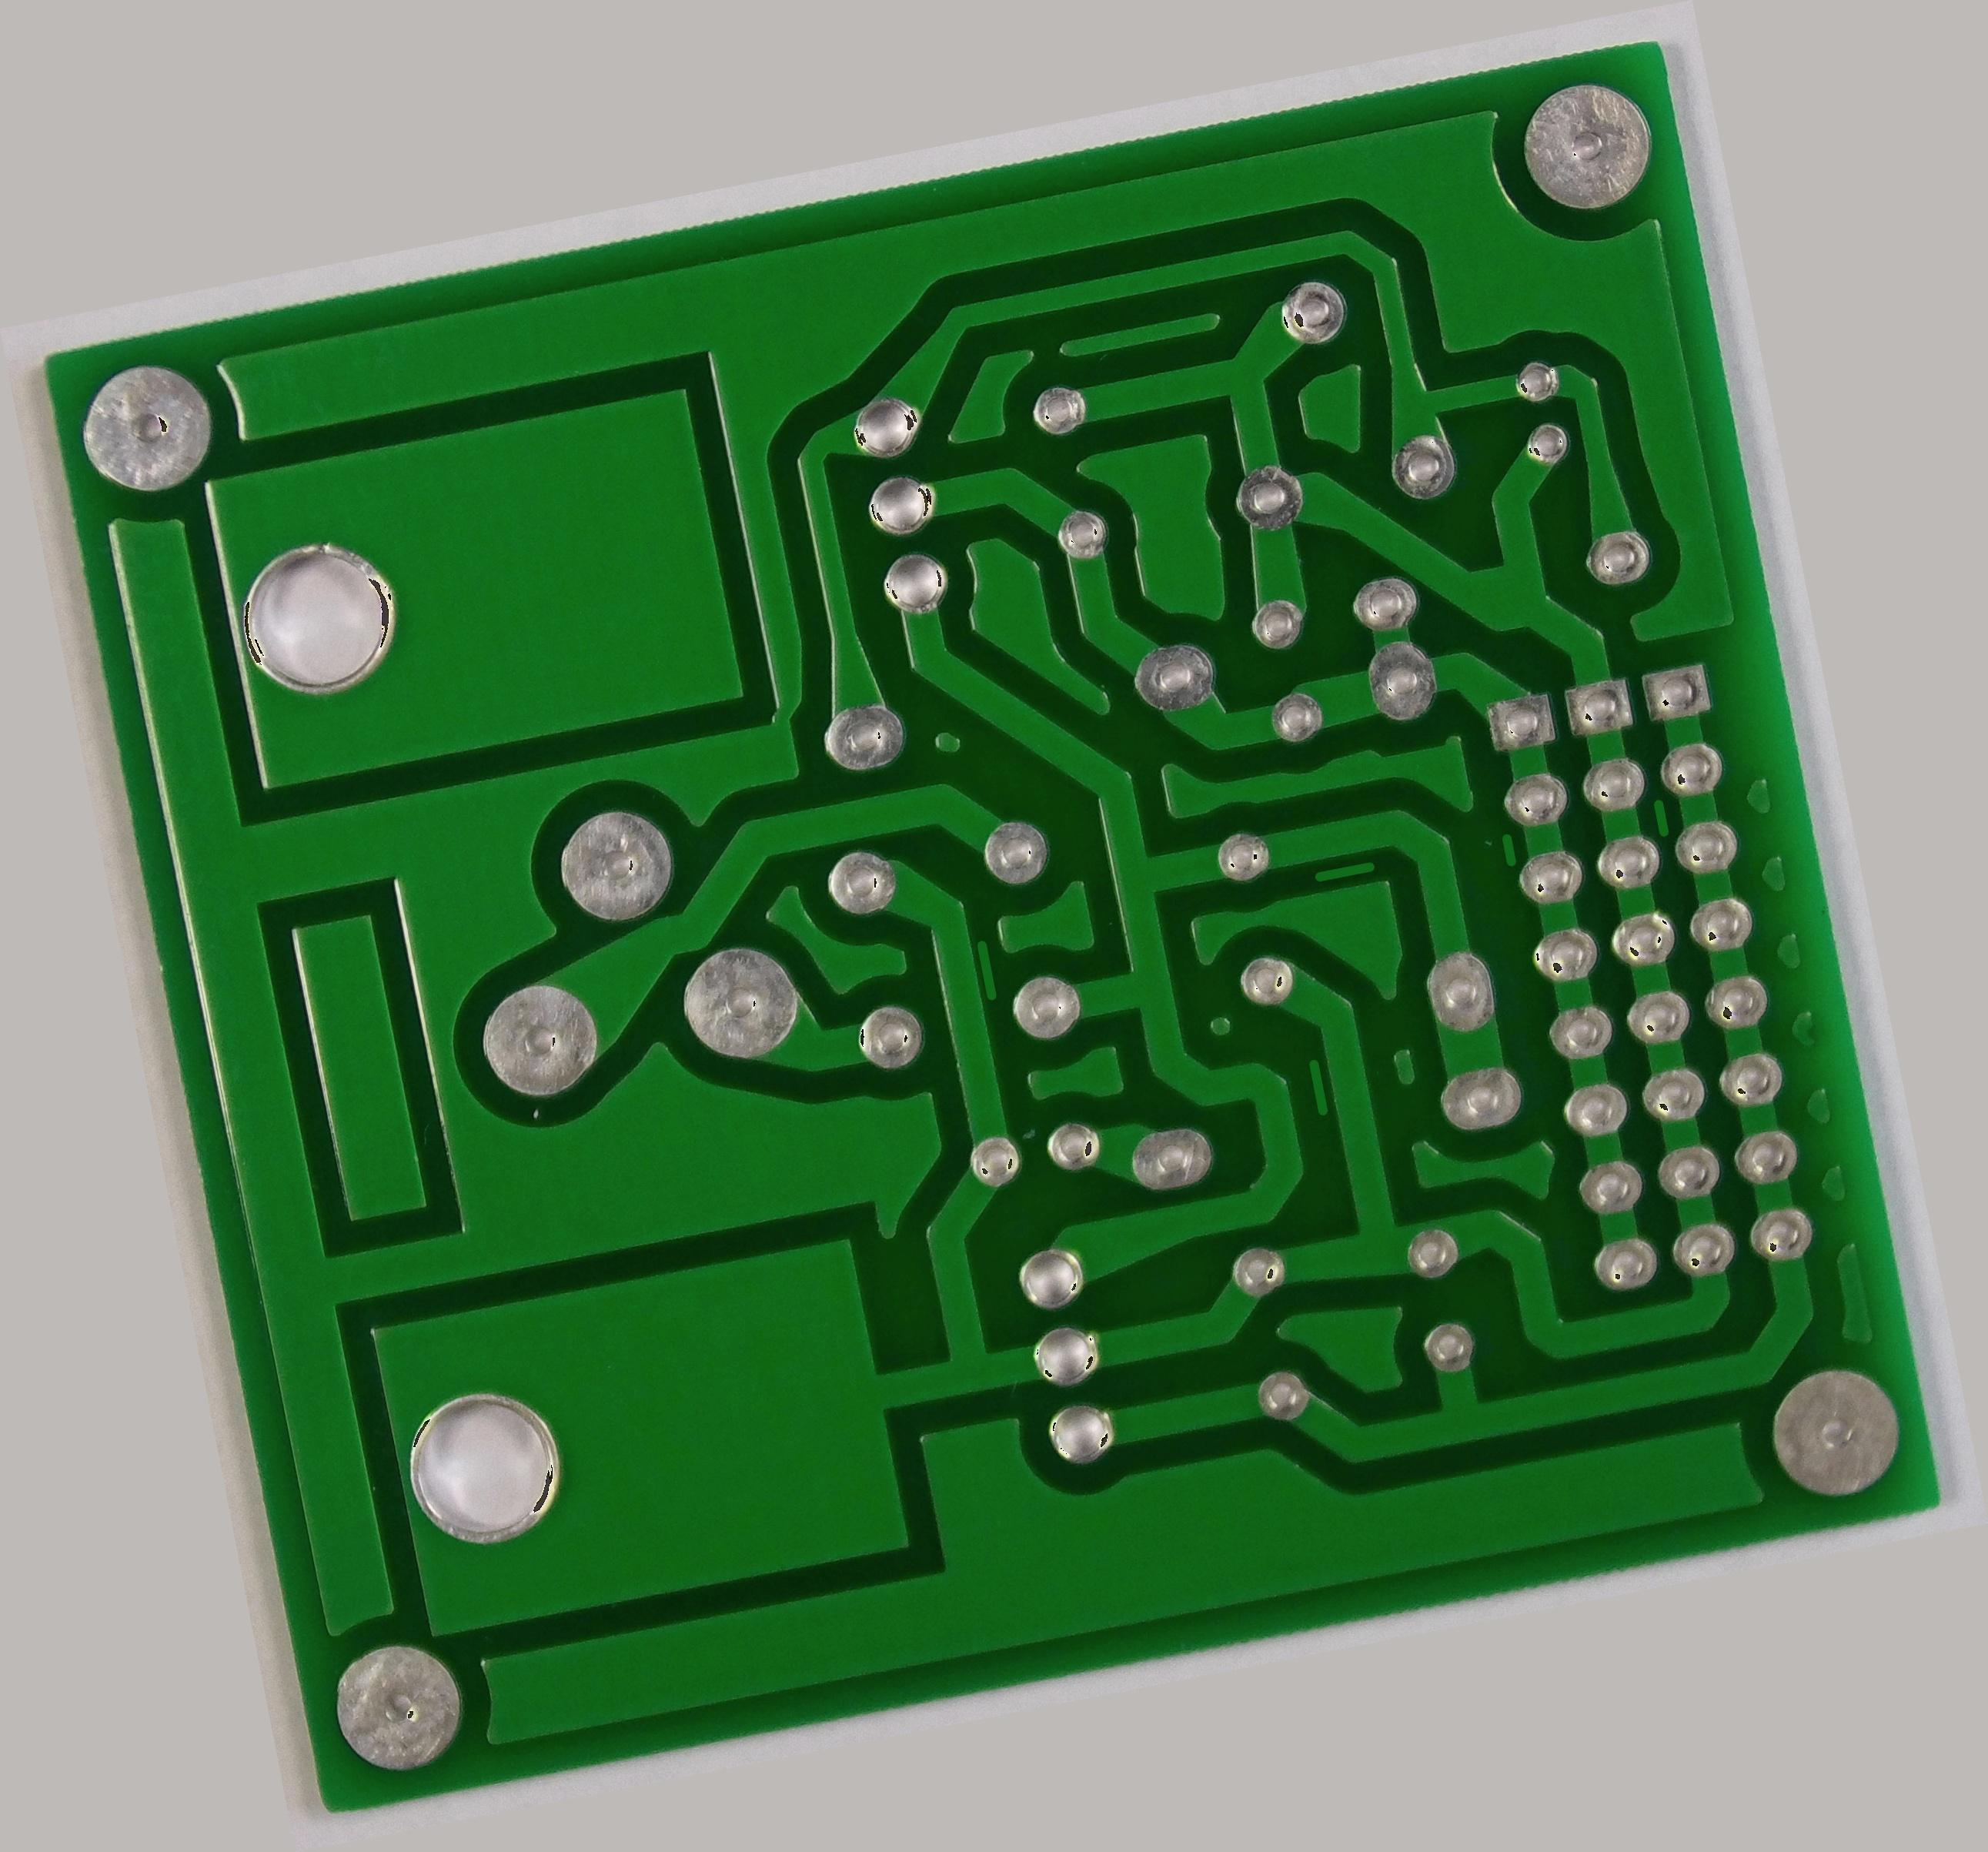spurious_copper: (1299, 839, 1387, 900), (1293, 1046, 1342, 1135), (957, 929, 1011, 1008), (1633, 787, 1685, 848), (1483, 820, 1532, 877)
